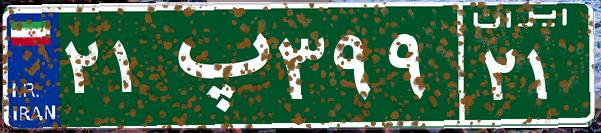1: (110, 28, 158, 105), (525, 38, 570, 115)
2: (57, 26, 110, 107), (475, 38, 525, 113)
3: (273, 28, 330, 110)
9: (385, 28, 445, 110), (330, 28, 385, 110)
پ: (158, 15, 273, 115)
